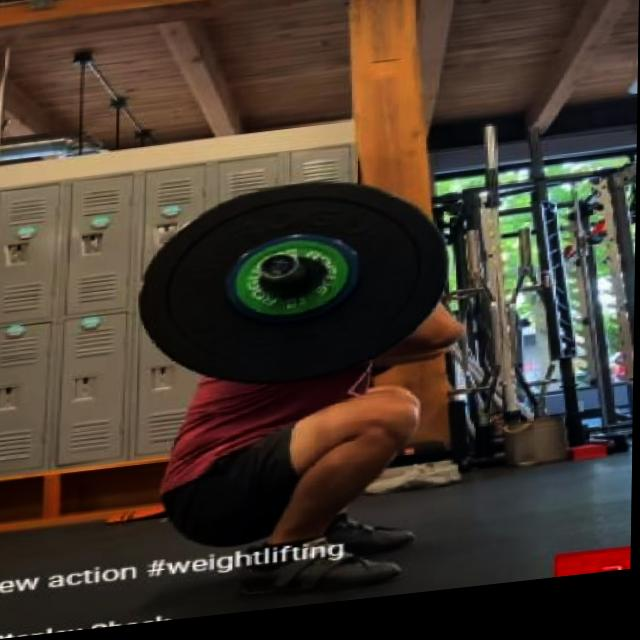barbell: (129, 171, 460, 410)
